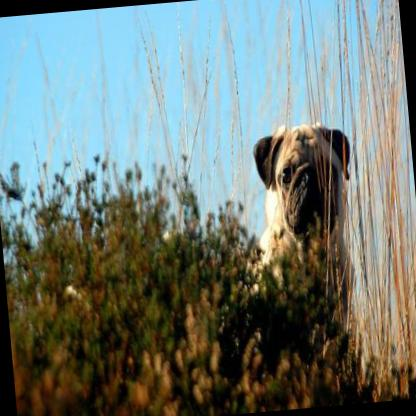pug: (246, 115, 363, 321)
